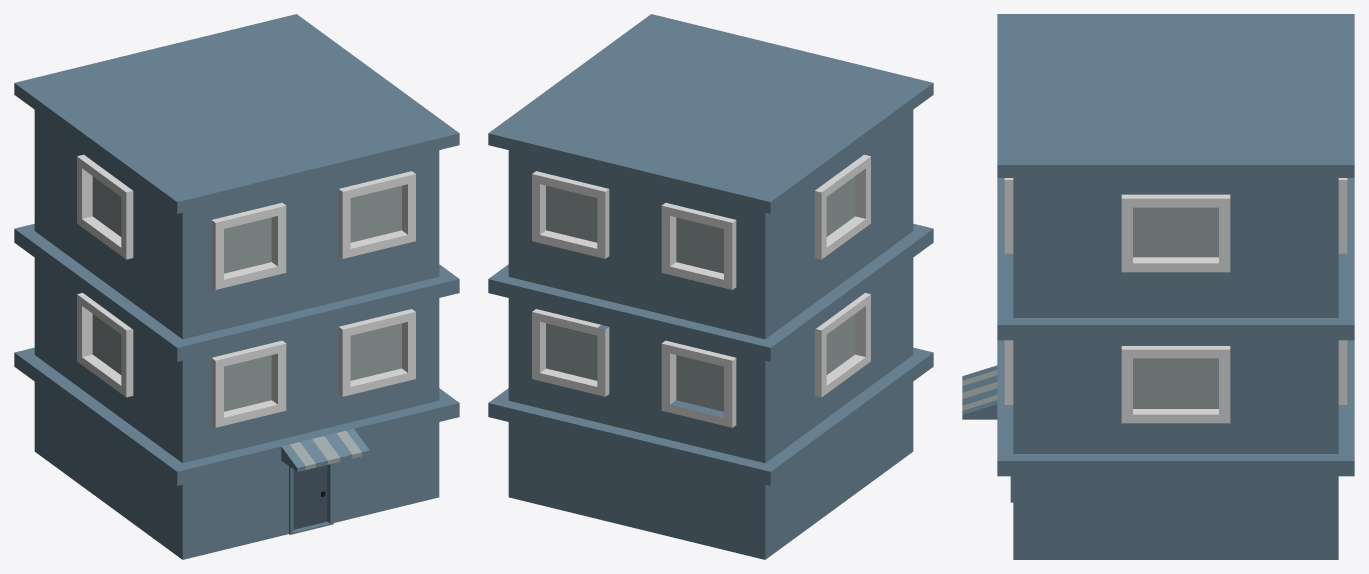
File: Blue_Building.fbx
3 views of the same model, side by side, from view 1: azimuth 30°, elevation 25°; view 2: azimuth 150°, elevation 25°; view 3: azimuth 270°, elevation 25° (orthographic). The views are drawn at different scales.
Visible parts, largest first — view 1: Blue_House; view 2: Blue_House; view 3: Blue_House.
Boxes of the visible parts, x1,y1,x2,y2 form: Blue_House: [14, 14, 459, 559]; Blue_House: [488, 14, 933, 559]; Blue_House: [962, 14, 1354, 559].
Bounding box in the file's own units: 11 × 13.63 × 12.08.
